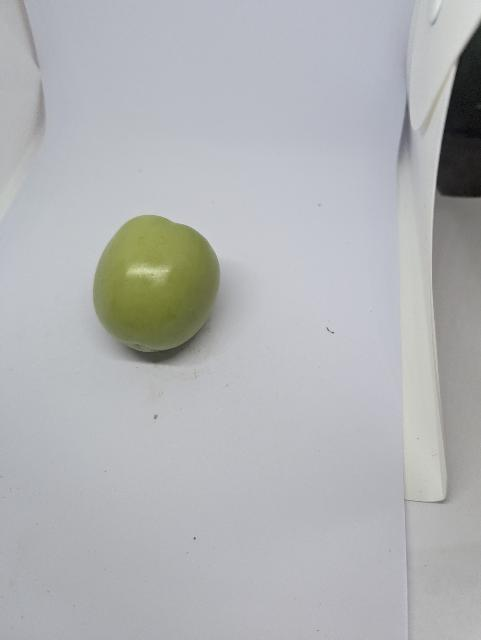green: (83, 207, 225, 365)
